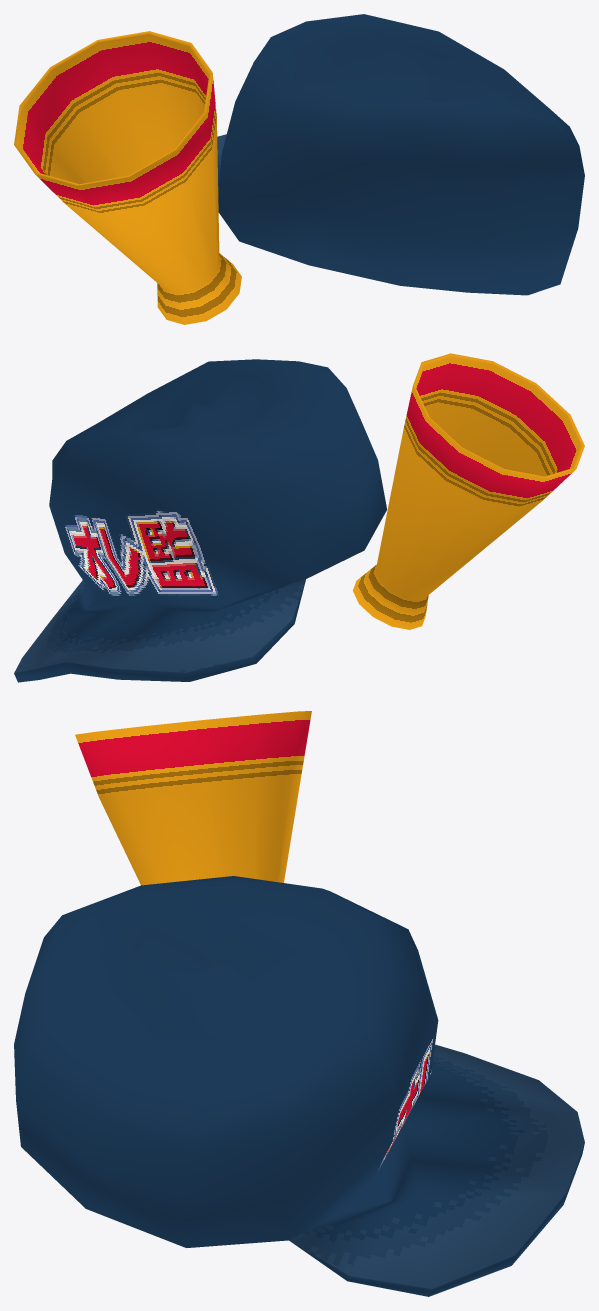
File: ps2_save-icons_oregakantokuda.glb
3 renders of one model, top to bottom at view 1: azimuth 30°, elevation 25°; view 2: azimuth 150°, elevation 25°; view 3: azimuth 270°, elevation 25°, orthographic. The views are drawn at different scales.
Parts seen in each view (by area): view 1: orekan.ico; view 2: orekan.ico; view 3: orekan.ico.
Part boxes in pixels (left/top/right/bottom): orekan.ico: left=14, top=14, right=584, bottom=324; orekan.ico: left=14, top=353, right=584, bottom=682; orekan.ico: left=14, top=711, right=584, bottom=1296.
Size of the model in its own units: 4.33 by 2.64 by 3.5.
1 material, 1 textured.
